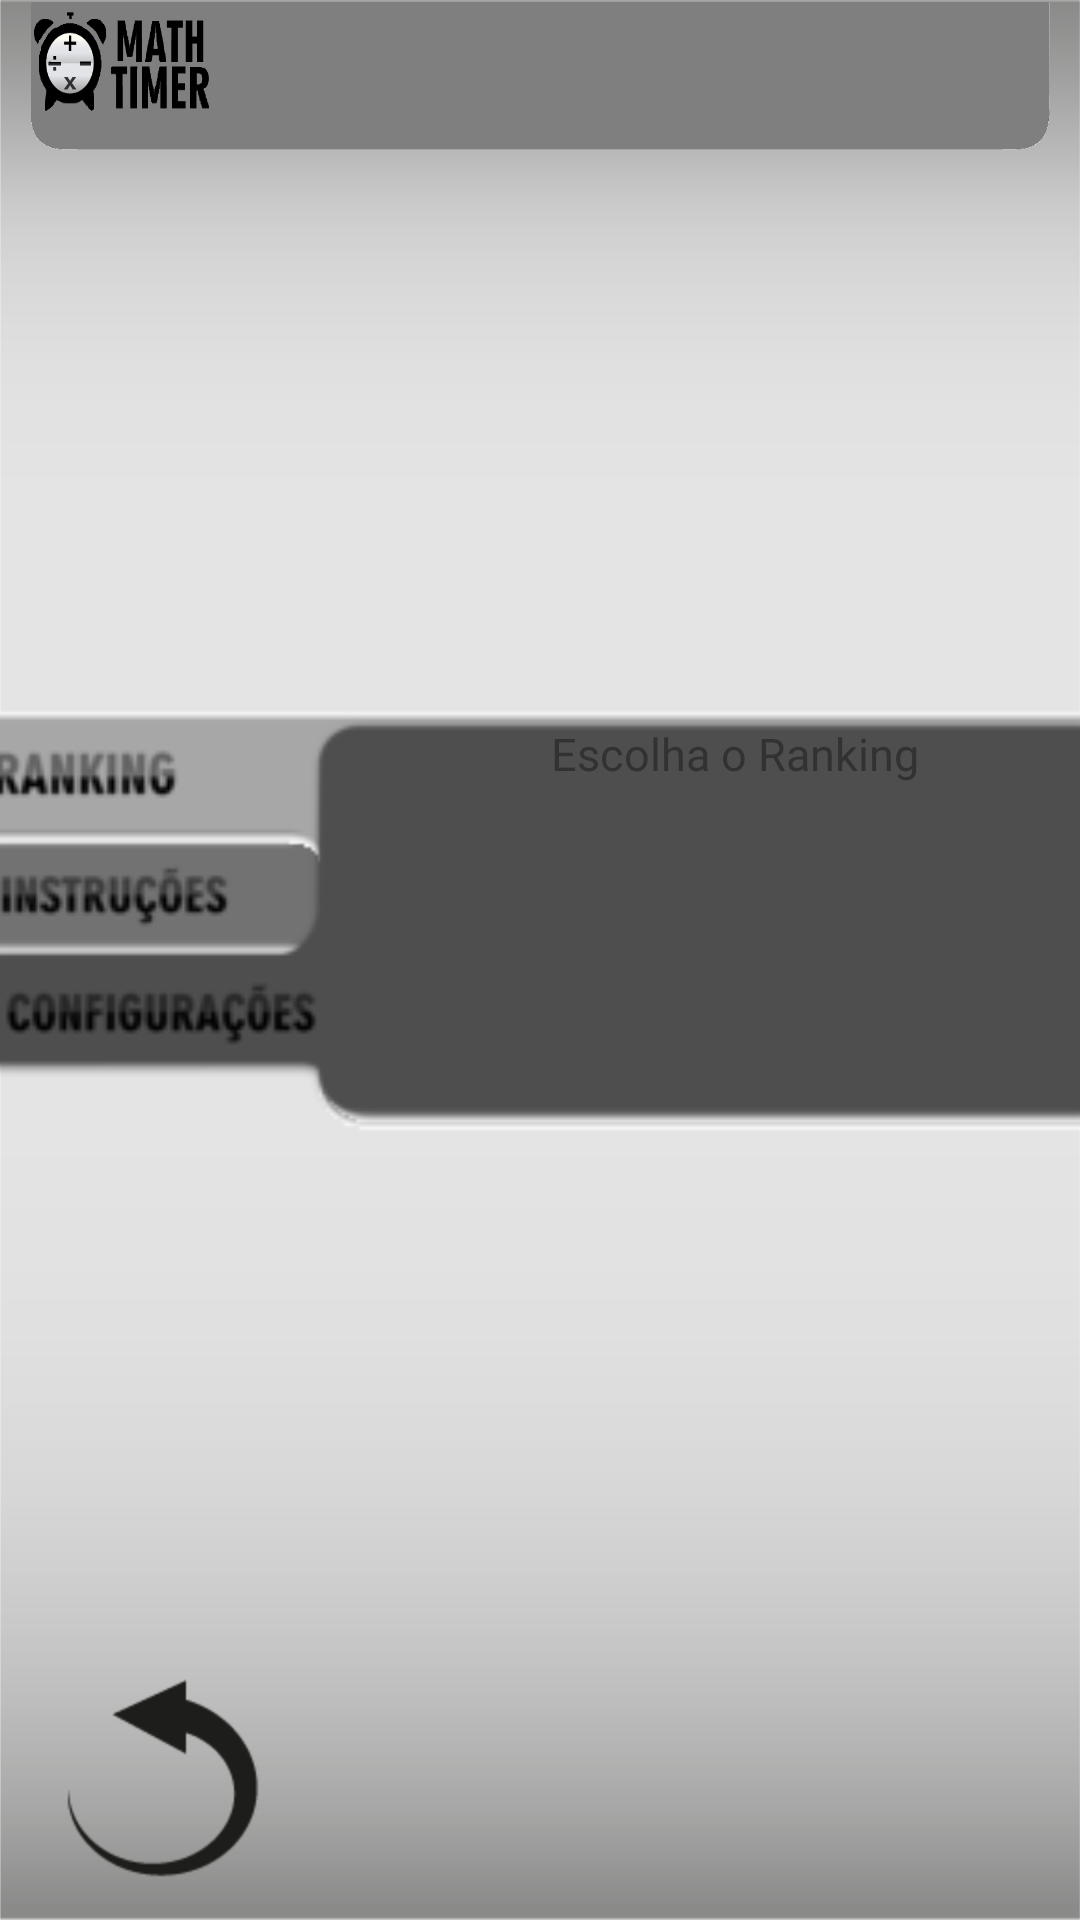

Icons on this 1080 × 1920 Android screen, each with the point to tap as (x,y):
voltar: (161,1799)
